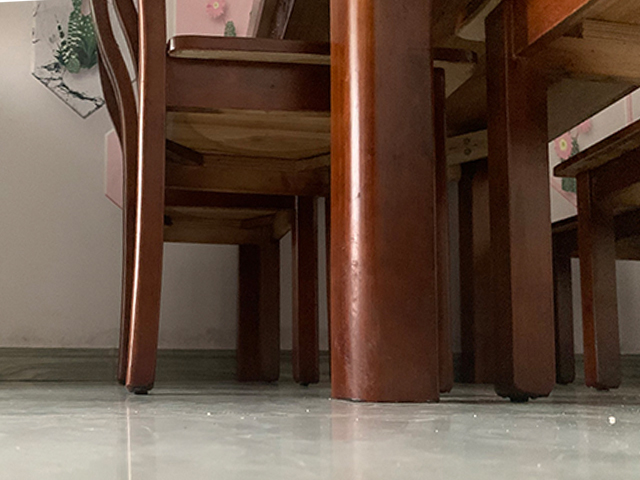stool: (88, 1, 332, 397)
